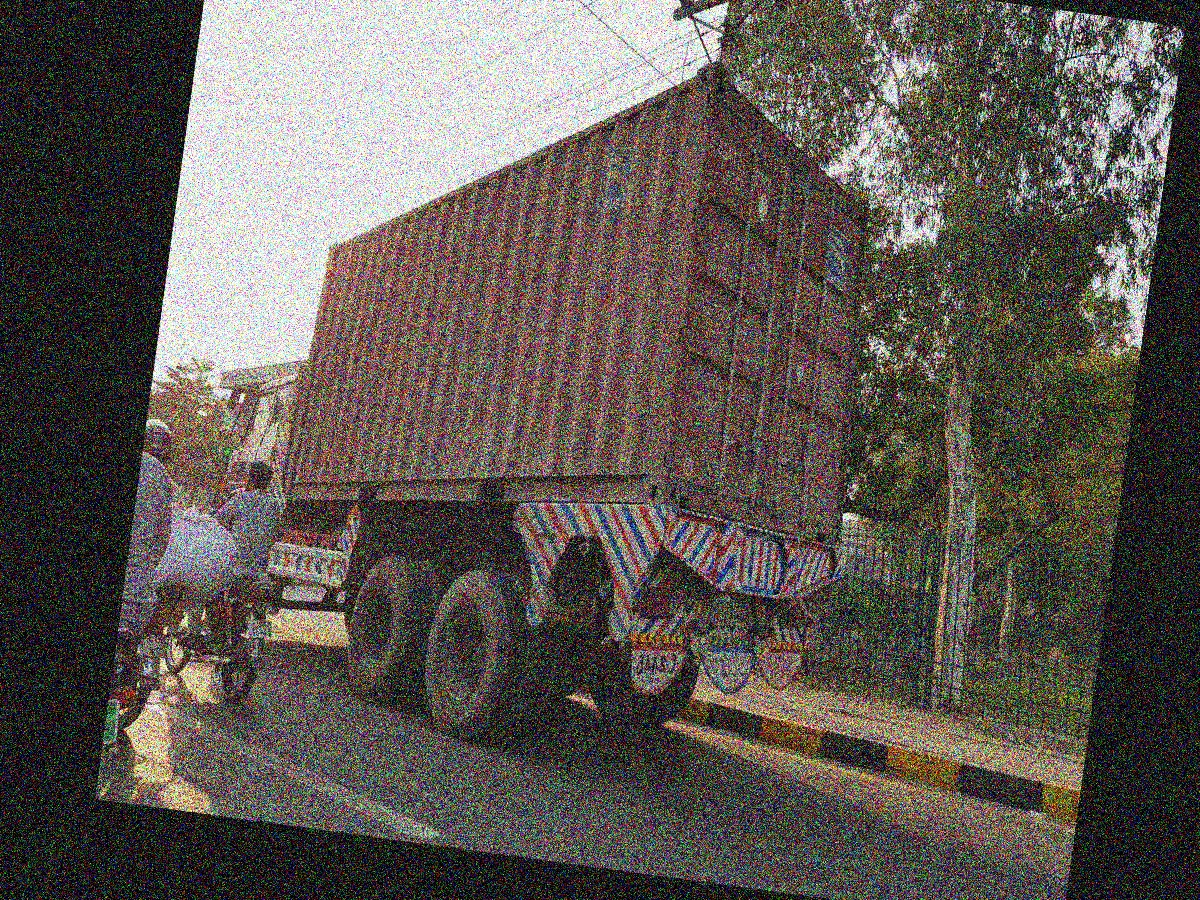truck: (186, 2, 908, 780)
